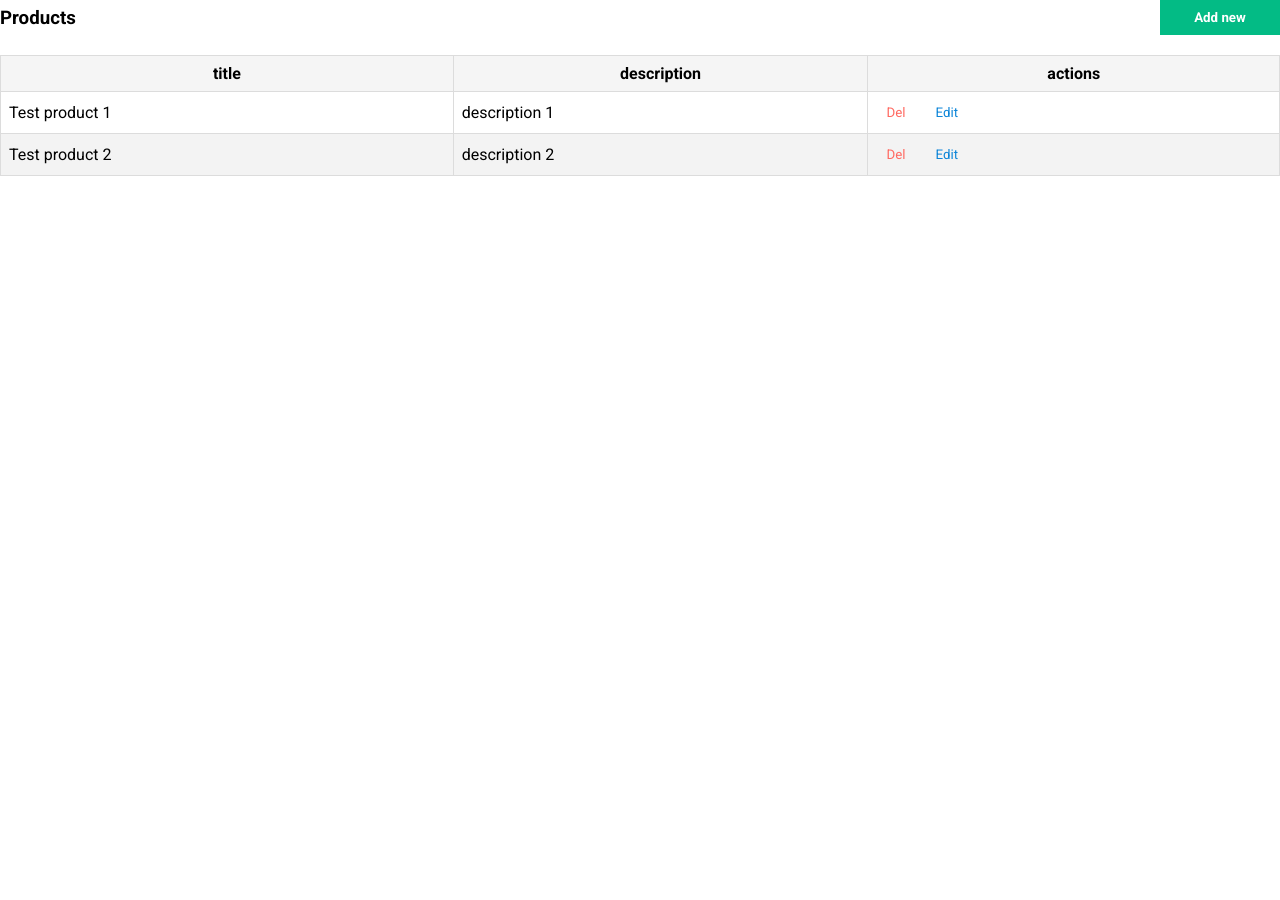
Test: Products page › Delete row #2
Check: the text "Test product 2" is shown, box [0, 134, 453, 176]
Click the button with test id "delete-2" at (896,154), box [876, 142, 916, 167]
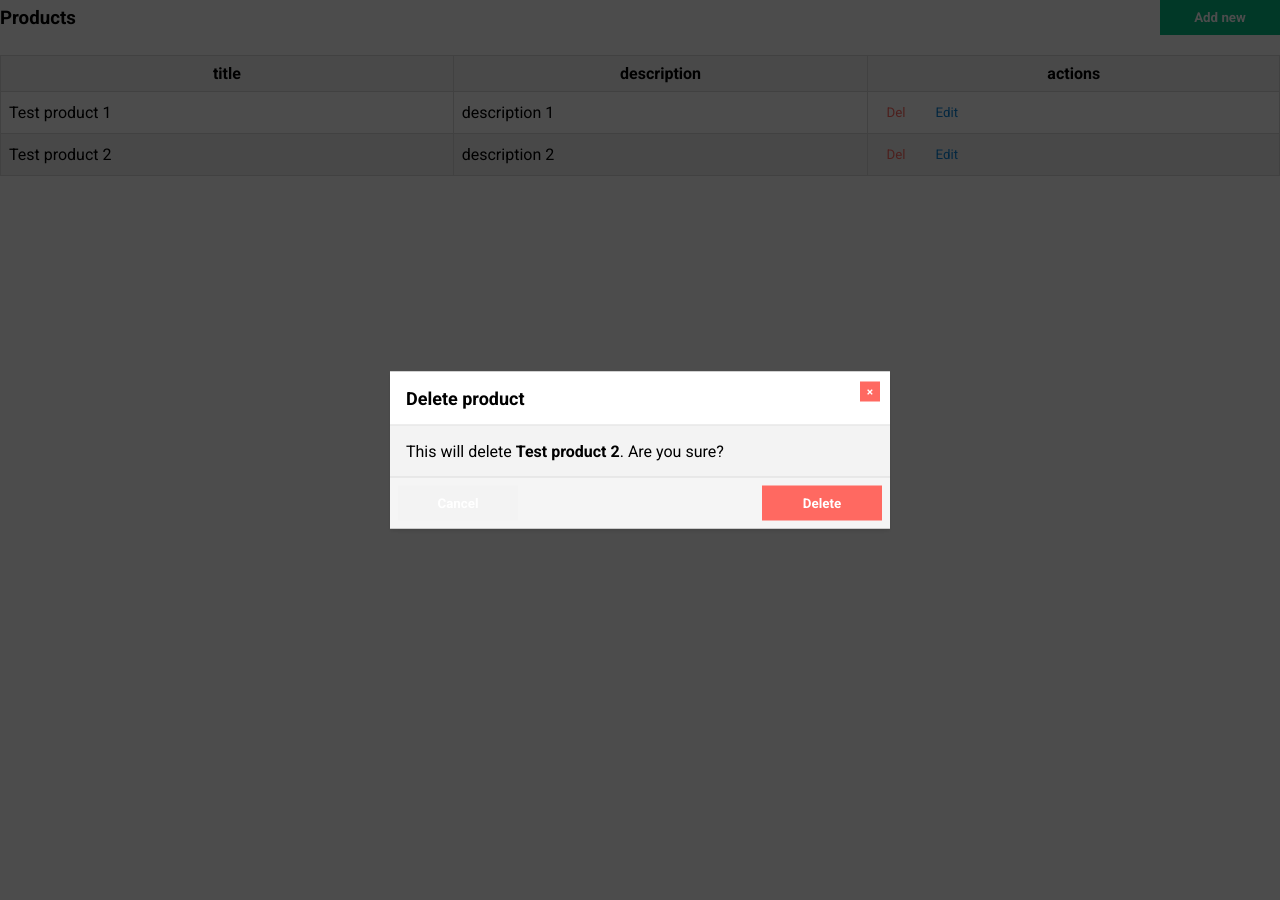
Check: the element with test id "product-delete-modal" is shown
Check: the button with test id "delete-button" is shown
Click the button with test id "delete-button" at (822,503), box [762, 486, 882, 520]
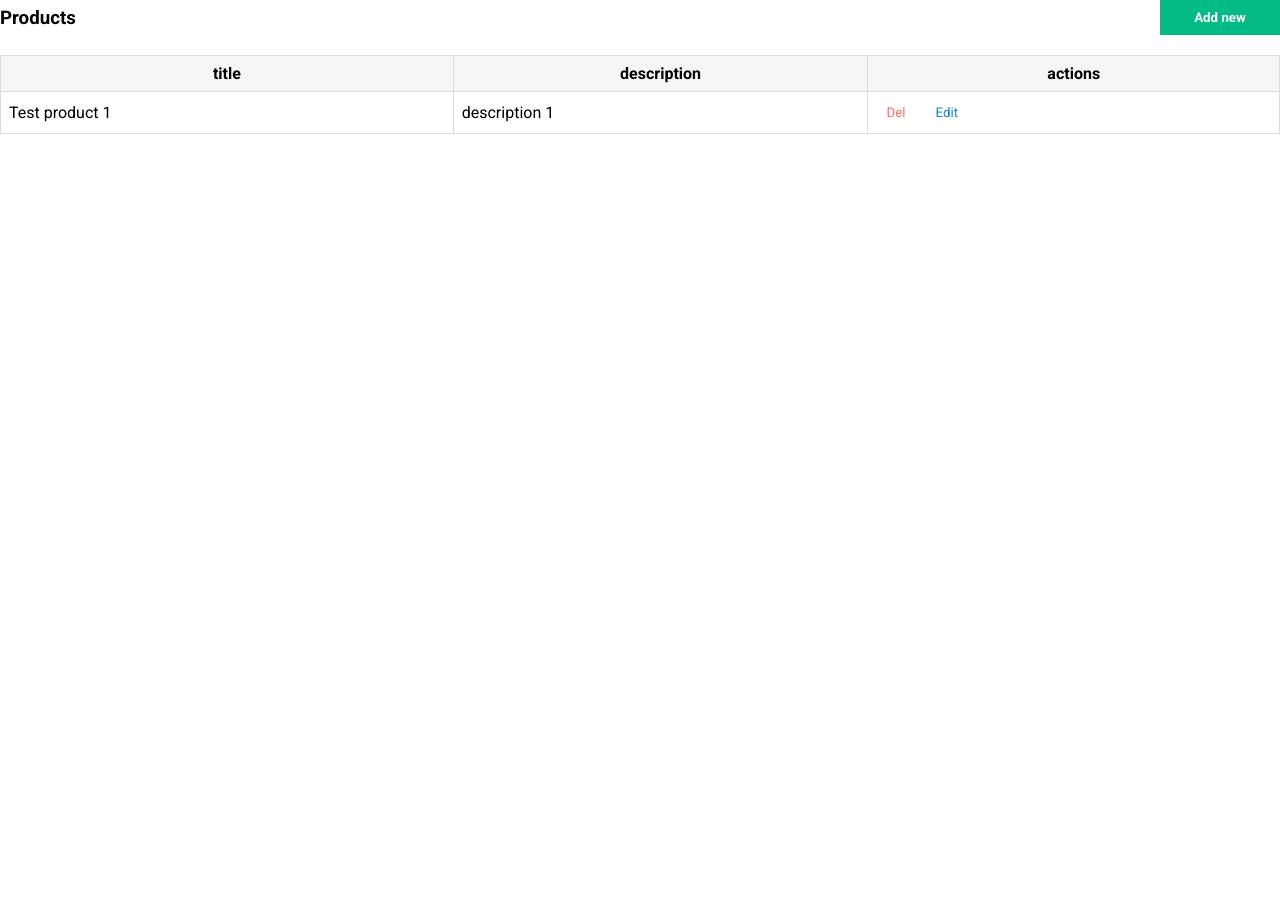
Check: the text "Test product 2" is gone
